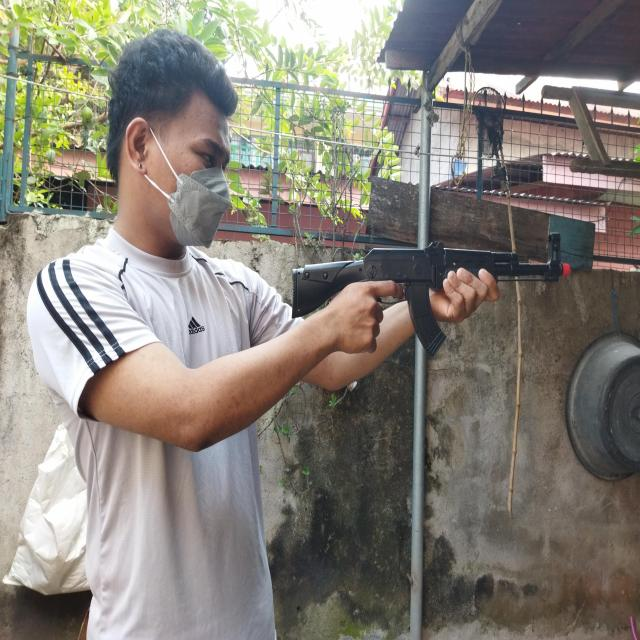rifle: (292, 232, 570, 358)
